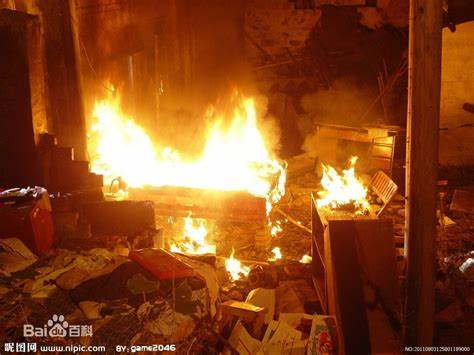fire: (70, 81, 288, 199), (315, 152, 378, 203), (171, 201, 208, 252), (222, 245, 254, 282)
